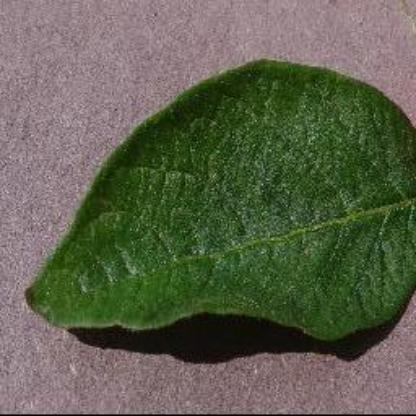Healthy-plant: (23, 52, 415, 362)
